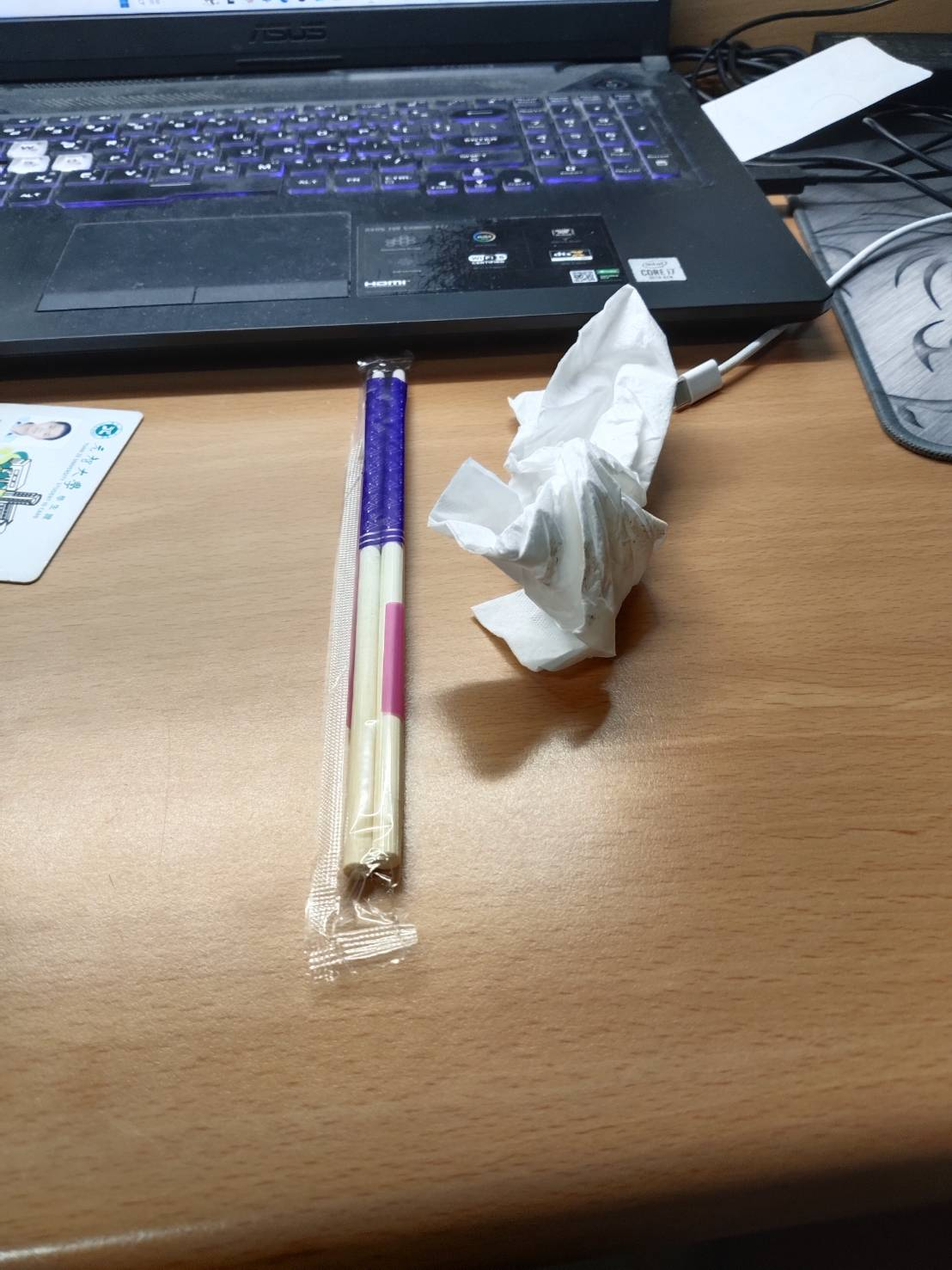General waste: (249, 298, 788, 1026)
